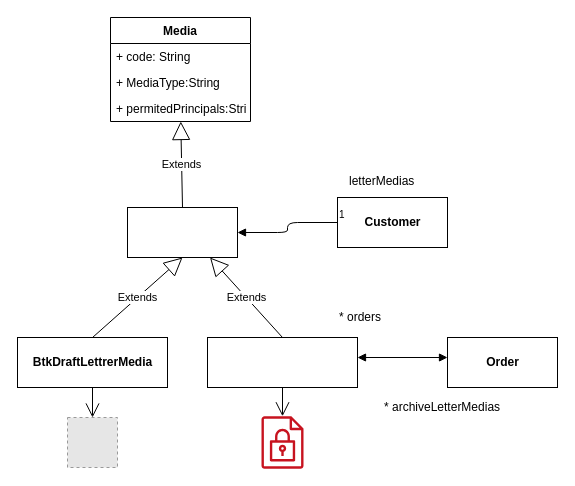
Image size: 575x486. Some labels were removed from this diagram. Grey dashed boxes stand in for pictures. Here are the shapes that lost their labels. From the top down, the centre of each, then its label:
the point at 182,232: BtkLetterMedia
the point at 282,362: BtkArchiveLettrerMedia
